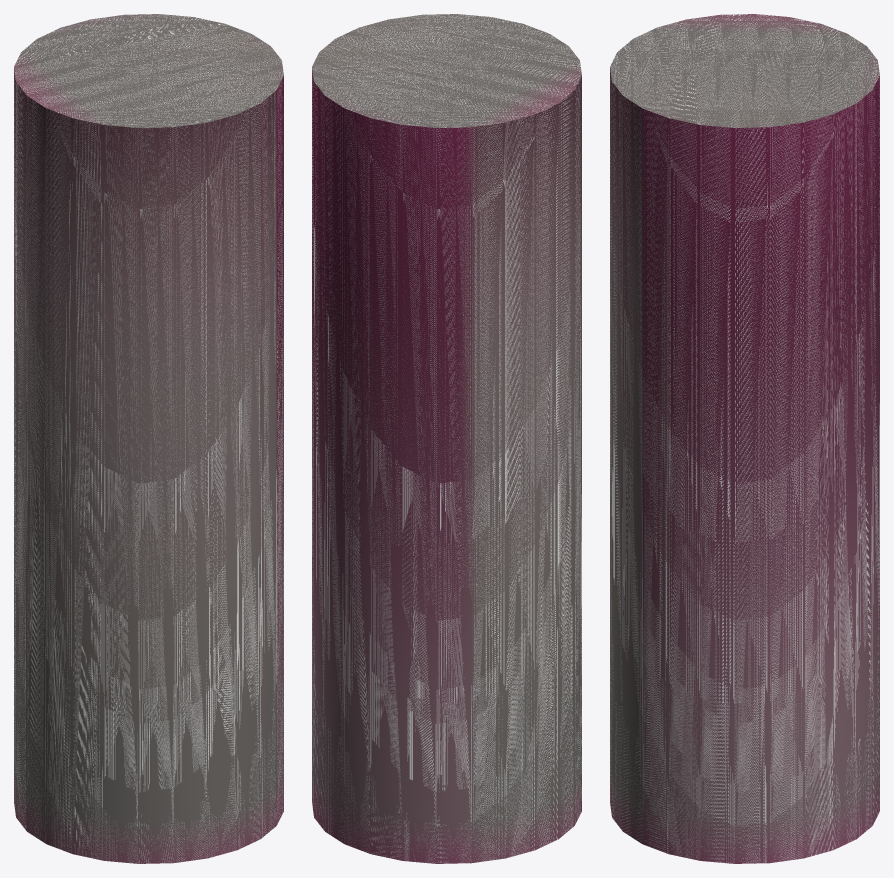
File: original-41.obj
The picture shows the model from 3 angles, left to right: view 1: azimuth 30°, elevation 25°; view 2: azimuth 150°, elevation 25°; view 3: azimuth 270°, elevation 25°; orthographic projection.
Visible parts, largest first — view 1: Component_8_9/Component_8/mesh17/mesh17-geometry#mesh17-geometry; view 2: Component_8_9/Component_8/mesh17/mesh17-geometry#mesh17-geometry; view 3: Component_8_9/Component_8/mesh17/mesh17-geometry#mesh17-geometry.
Boxes of the visible parts, left/top/right/bottom form: Component_8_9/Component_8/mesh17/mesh17-geometry#mesh17-geometry: left=14, top=14, right=283, bottom=863; Component_8_9/Component_8/mesh17/mesh17-geometry#mesh17-geometry: left=312, top=14, right=581, bottom=863; Component_8_9/Component_8/mesh17/mesh17-geometry#mesh17-geometry: left=610, top=14, right=879, bottom=863.
Size of the model in its own units: 0.00655 by 0.0197 by 0.00655.
